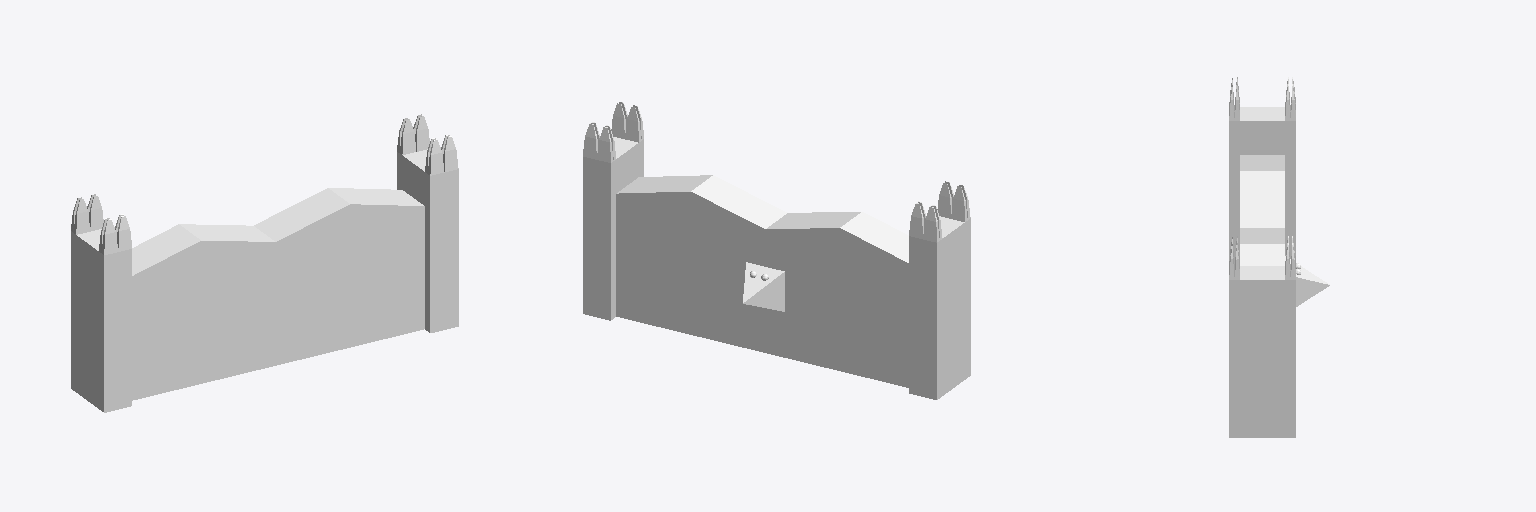
File: generic_object_sandwall.obj
The picture shows the model from 3 angles: view 1: azimuth 30°, elevation 25°; view 2: azimuth 150°, elevation 25°; view 3: azimuth 270°, elevation 25°; orthographic projection.
Parts seen in each view (by area): view 1: Cube; view 2: Cube; view 3: Cube.
Boxes of the visible parts, x1=… form: Cube: x1=71, y1=114, x2=458, y2=412; Cube: x1=583, y1=102, x2=970, y2=399; Cube: x1=1229, y1=77, x2=1312, y2=437.
Size of the model in its own units: 18.26 by 9.38 by 4.54.